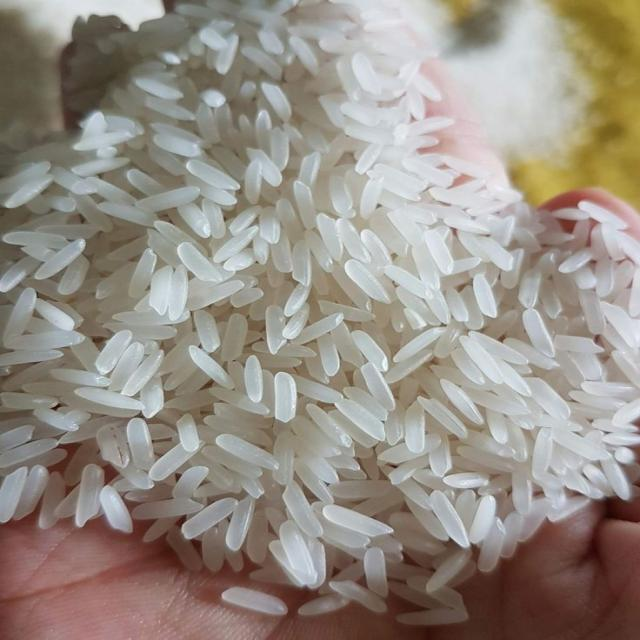rice: (0, 0, 639, 624)
